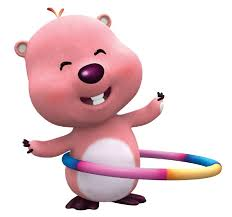Loopy: (13, 5, 166, 213)
